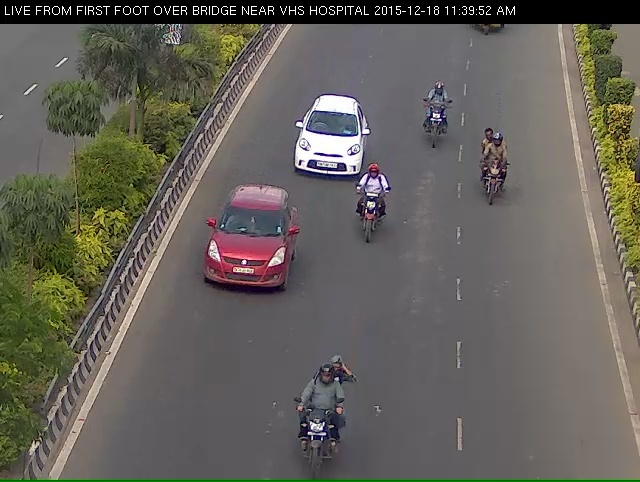Car: (198, 211, 293, 316), (289, 94, 361, 193)
Person: (288, 398, 338, 479), (473, 140, 512, 224), (348, 184, 388, 258), (418, 82, 450, 163)
